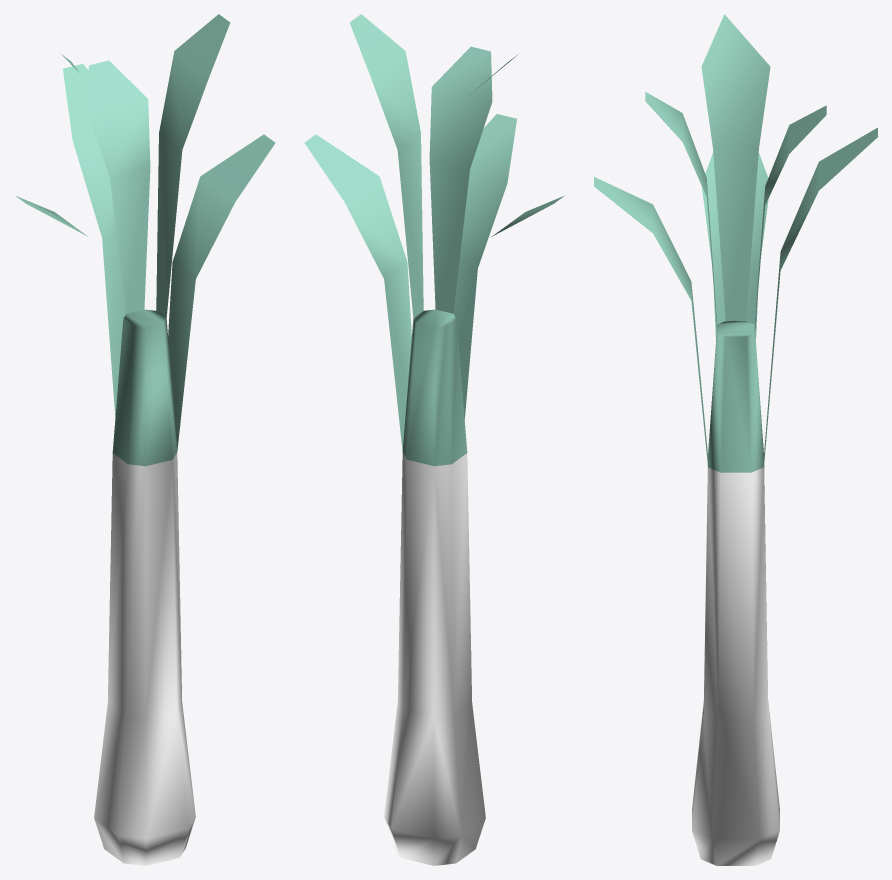
The model's file is leek.glb.
The picture shows the model from 3 angles, left to right: view 1: azimuth 30°, elevation 25°; view 2: azimuth 150°, elevation 25°; view 3: azimuth 270°, elevation 25°; orthographic projection.
Visible parts, largest first — view 1: leek; view 2: leek; view 3: leek.
Part boxes in pixels (bbox=[...]): leek: bbox=[16, 14, 275, 865]; leek: bbox=[304, 14, 563, 865]; leek: bbox=[594, 14, 877, 865].
Size of the model in its own units: 0.2729 by 0.8474 by 0.2729.
